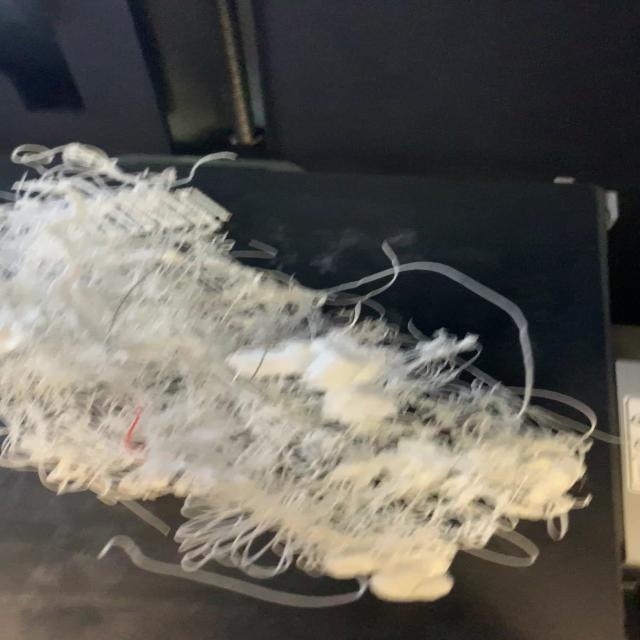spaghetti: (3, 141, 604, 608)
